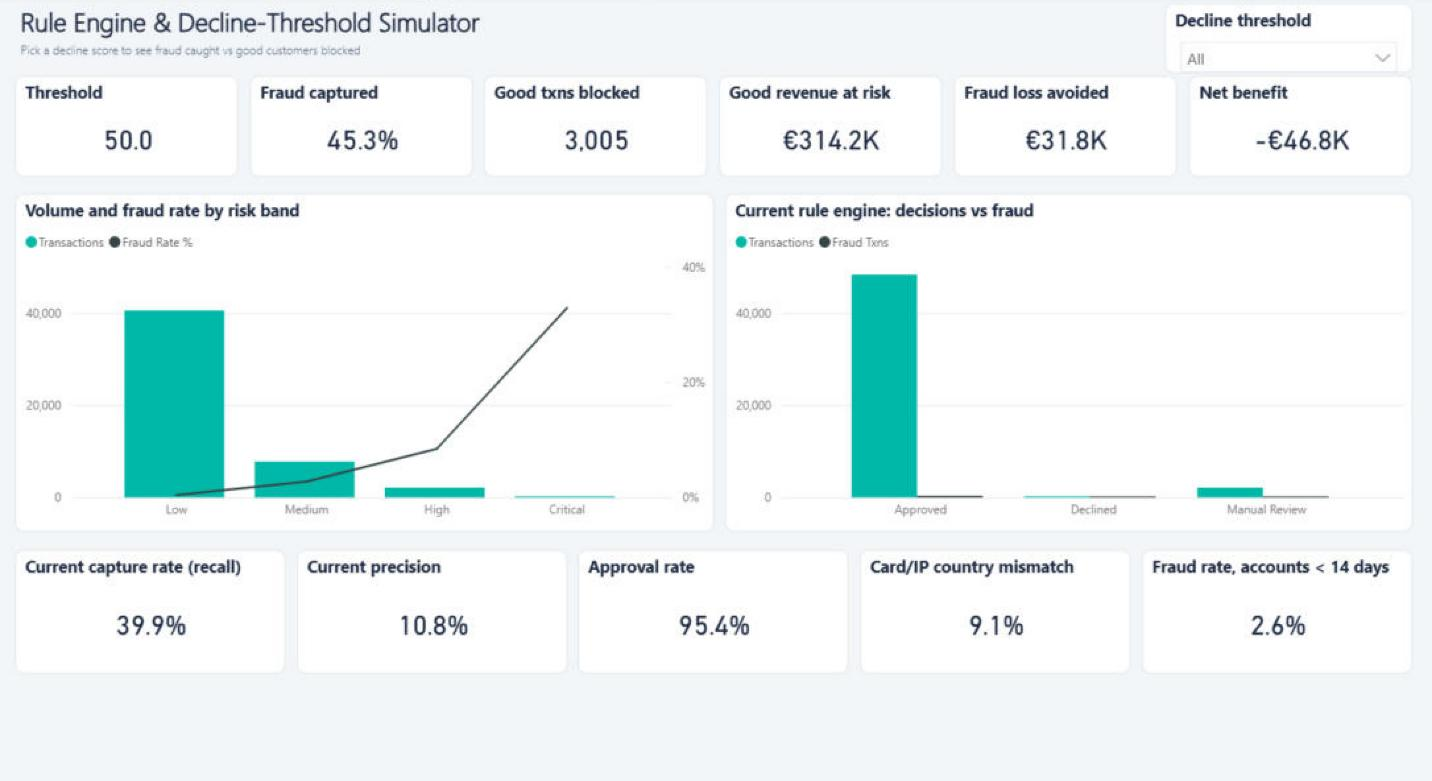

The dashboard page shown, as its layout file describes it:
{"tool":"powerbi","page":{"name":"Threshold Simulator","canvas":[1280,720],"ordinal":1},"visuals":[{"type":"textbox","box":[20,2,1000,70],"z":0},{"type":"slicer","title":"Decline threshold","fields":{"Values":["Decline Threshold.Decline Threshold Value"]},"box":[1040,6,220,62],"z":1000},{"type":"card","title":"Threshold","fields":{"Values":["_Measures.Selected Threshold"]},"box":[20,70,198.3,90],"z":2000},{"type":"card","title":"Fraud captured","fields":{"Values":["_Measures.Sim Capture Rate %"]},"box":[228.3,70,198.3,90],"z":3000},{"type":"card","title":"Good txns blocked","fields":{"Values":["_Measures.Sim Good Customers Blocked"]},"box":[436.7,70,198.3,90],"z":4000},{"type":"card","title":"Good revenue at risk","fields":{"Values":["_Measures.Sim Revenue At Risk"]},"box":[645,70,198.3,90],"z":5000},{"type":"card","title":"Fraud loss avoided","fields":{"Values":["_Measures.Sim Fraud Loss Avoided"]},"box":[853.3,70,198.3,90],"z":6000},{"type":"card","title":"Net benefit","fields":{"Values":["_Measures.Sim Net Benefit"]},"box":[1061.7,70,198.3,90],"z":7000},{"type":"lineClusteredColumnComboChart","title":"Volume and fraud rate by risk band","fields":{"Category":["dim_risk_band.RiskBand"],"Y":["_Measures.Transactions"],"Y2":["_Measures.Fraud Rate %"]},"box":[20,175,620,300],"z":8000},{"type":"clusteredColumnChart","title":"Current rule engine: decisions vs fraud","fields":{"Category":["fact_transactions.Decision"],"Y":["_Measures.Transactions","_Measures.Fraud Txns"]},"box":[650,175,610,300],"z":9000},{"type":"card","title":"Current capture rate (recall)","fields":{"Values":["_Measures.Fraud Capture Rate %"]},"box":[20,490,240,110],"z":10000},{"type":"card","title":"Current precision","fields":{"Values":["_Measures.Review Precision %"]},"box":[270,490,240,110],"z":11000},{"type":"card","title":"Approval rate","fields":{"Values":["_Measures.Approval Rate %"]},"box":[520,490,240,110],"z":12000},{"type":"card","title":"Card/IP country mismatch","fields":{"Values":["_Measures.Geo Mismatch Rate %"]},"box":[770,490,240,110],"z":13000},{"type":"card","title":"Fraud rate, accounts < 14 days","fields":{"Values":["_Measures.New Account Fraud Rate %"]},"box":[1020,490,240,110],"z":14000}]}

Visuals, with their boxes on the page's 1280x720 design canvas (x1, y1, x2, y2). These are canvas units, not pixel positions in the 1432x781 screenshot, which may show the page scaled, cropped or inside an application window:
textbox: <region>20, 2, 1020, 72</region>
"Decline threshold" slicer: <region>1040, 6, 1260, 68</region>
"Threshold" card: <region>20, 70, 218, 160</region>
"Fraud captured" card: <region>228, 70, 427, 160</region>
"Good txns blocked" card: <region>437, 70, 635, 160</region>
"Good revenue at risk" card: <region>645, 70, 843, 160</region>
"Fraud loss avoided" card: <region>853, 70, 1052, 160</region>
"Net benefit" card: <region>1062, 70, 1260, 160</region>
"Volume and fraud rate by risk band" lineClusteredColumnComboChart: <region>20, 175, 640, 475</region>
"Current rule engine: decisions vs fraud" clusteredColumnChart: <region>650, 175, 1260, 475</region>
"Current capture rate (recall)" card: <region>20, 490, 260, 600</region>
"Current precision" card: <region>270, 490, 510, 600</region>
"Approval rate" card: <region>520, 490, 760, 600</region>
"Card/IP country mismatch" card: <region>770, 490, 1010, 600</region>
"Fraud rate, accounts < 14 days" card: <region>1020, 490, 1260, 600</region>
